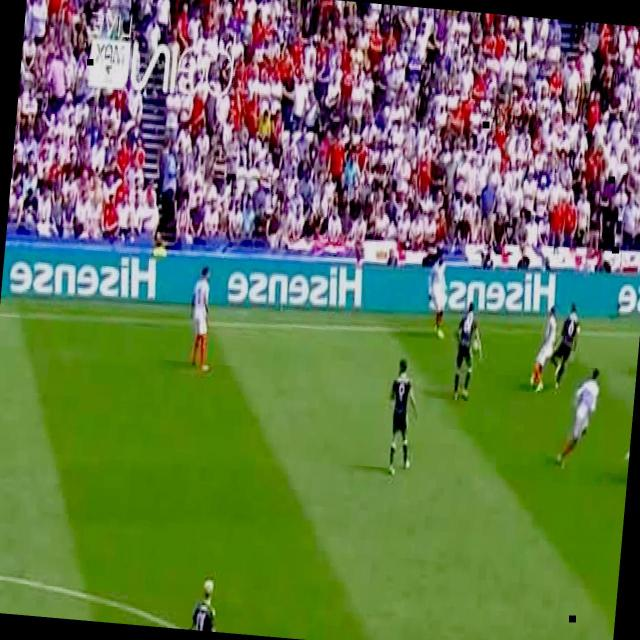ball: (472, 340, 481, 354)
player-white: (556, 366, 602, 472), (383, 359, 421, 476), (185, 263, 220, 372), (452, 302, 486, 402), (549, 300, 582, 394), (424, 249, 454, 340), (178, 576, 226, 632), (530, 304, 558, 394), (624, 384, 636, 478)
